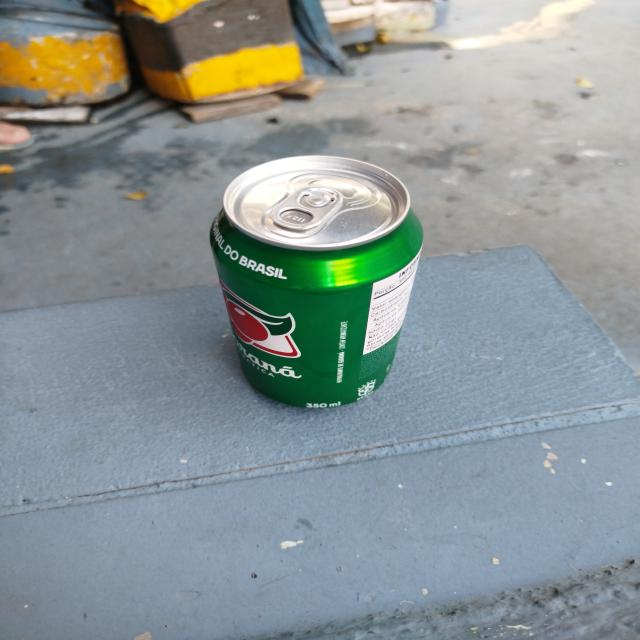Guarana: (208, 155, 425, 410)
